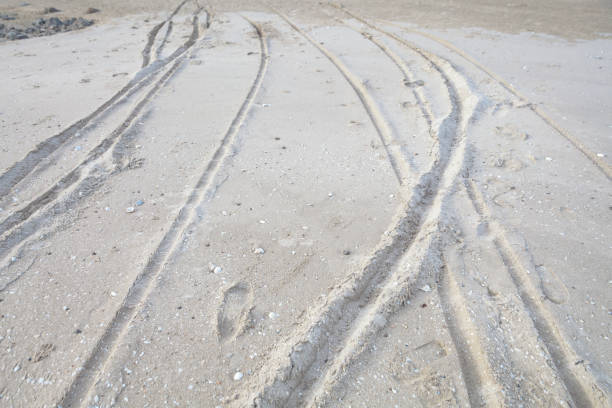vehicle_track: (243, 53, 474, 405), (59, 19, 268, 407), (0, 53, 185, 257), (401, 26, 611, 179), (0, 41, 189, 196)
